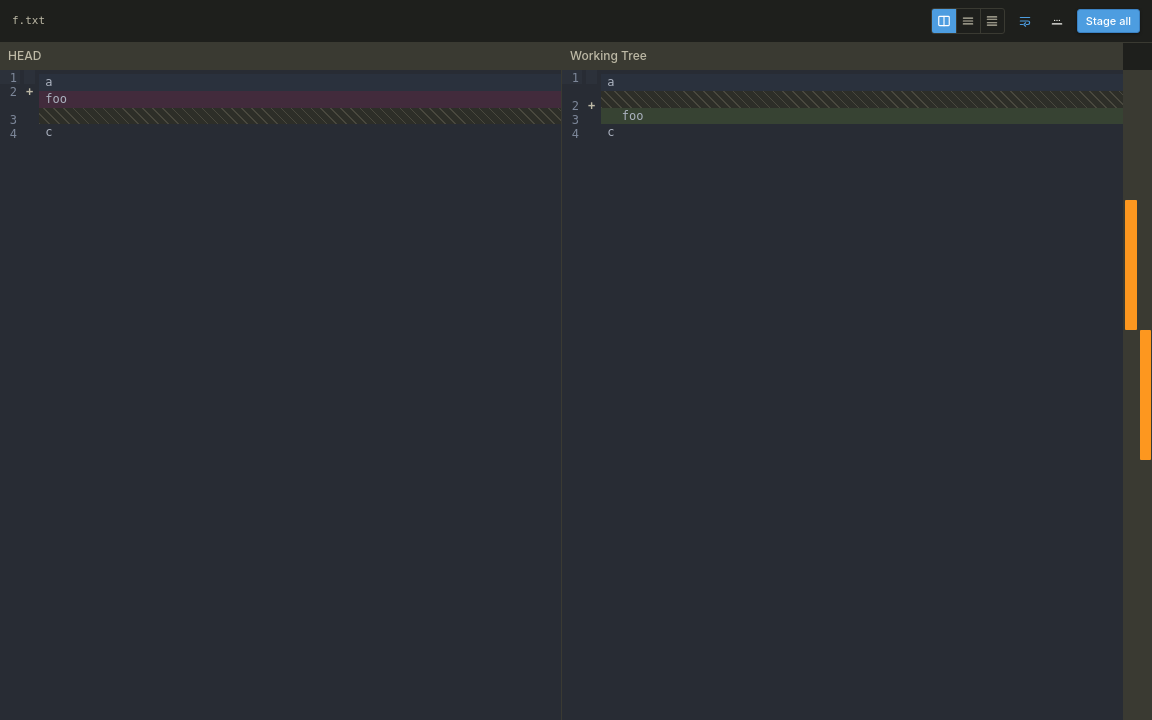
Test case: StageFileEditor › diff-view options › hides whitespace-only changes when the whitespace toggle is on
expect the 1st button with class "cm-stage-toggle" is shown: met, box [24, 86, 35, 98]
Click the button named "Hide whitespace-only changes" at (1057,21), box [1045, 9, 1069, 33]
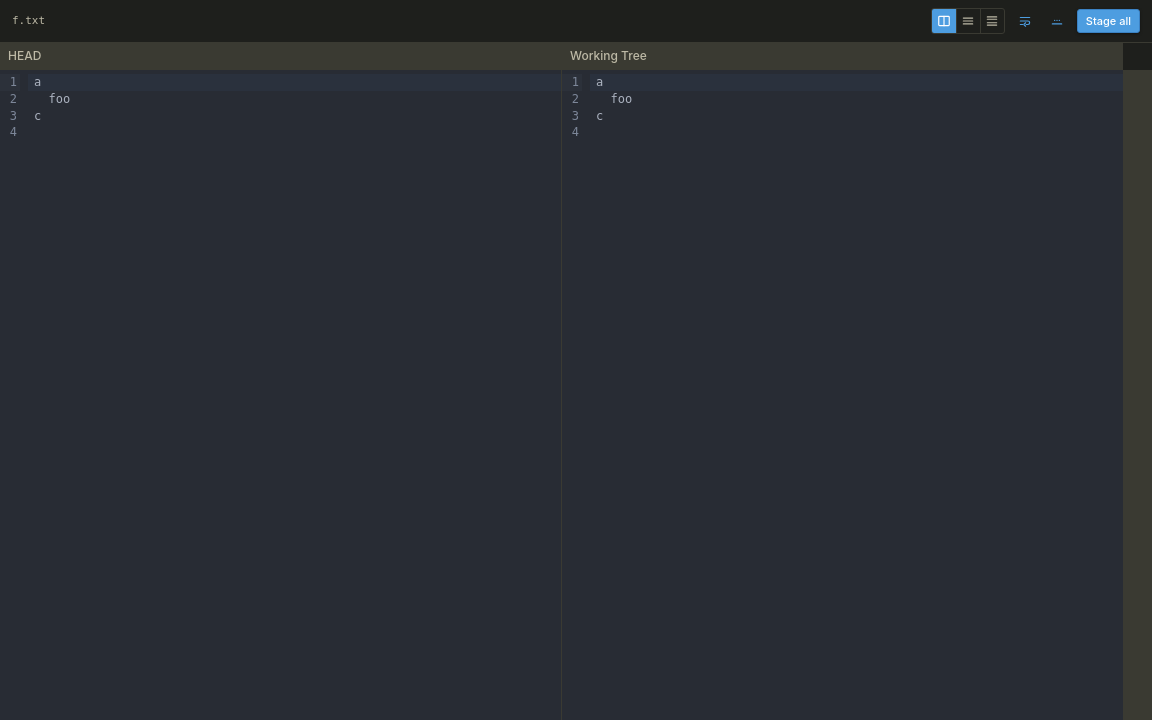
expect no buttons with class "cm-stage-toggle" are shown: met
